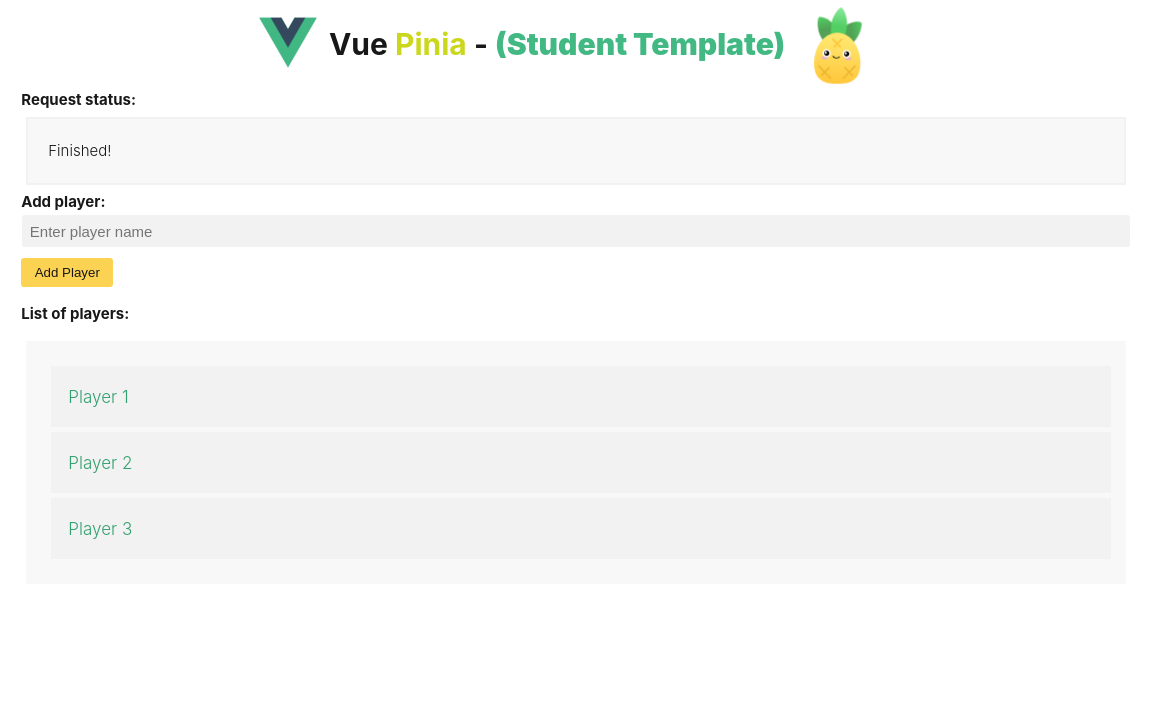
Scenario: Requests: PUT › Should not update the player if update fails.
What coordinates should you click on to do the following:
click the link "Player 2"
I would click on:
 (100, 462)
Its box is [51,432,1110,493].
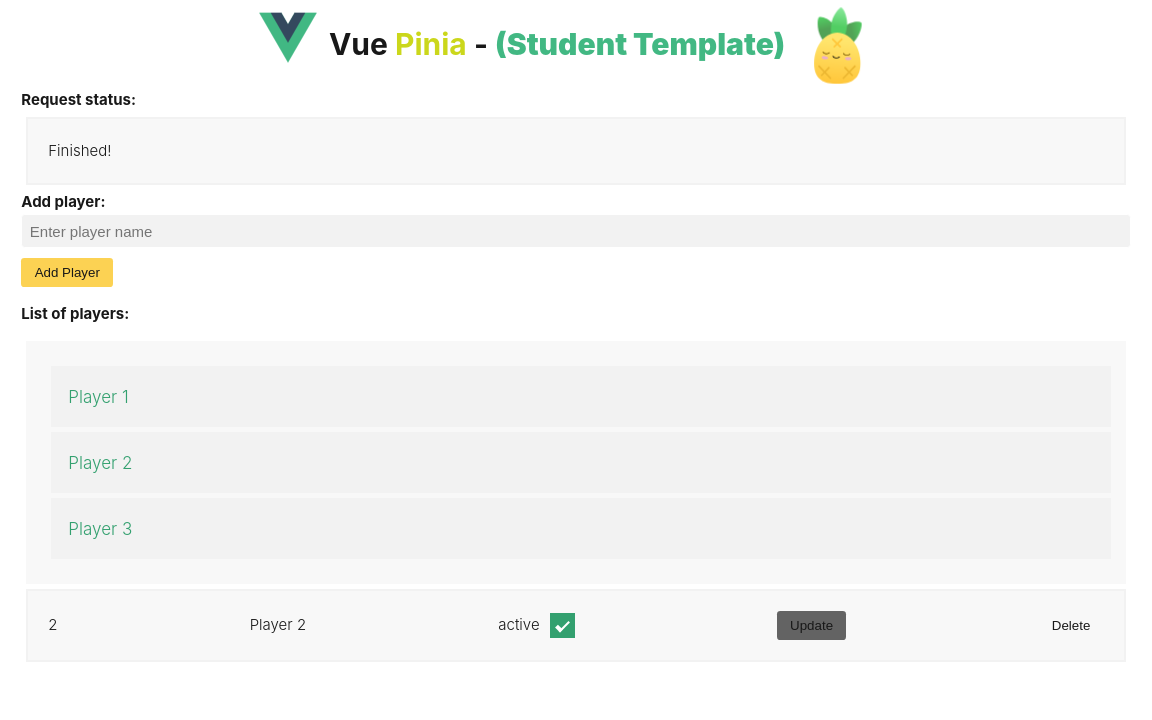
Check: the text "Finished!" is shown, box [26,117,1126,185]
Check: the element with id "selected-player" is shown, box [26,589,1125,661]
Check: the text "Player 2" is shown, box [250,614,306,638]
What coordinates should you click on to do the following:
click the checkbox with id "checkbox-label"
I would click on:
 (524, 626)
Its box is [498,614,549,638].
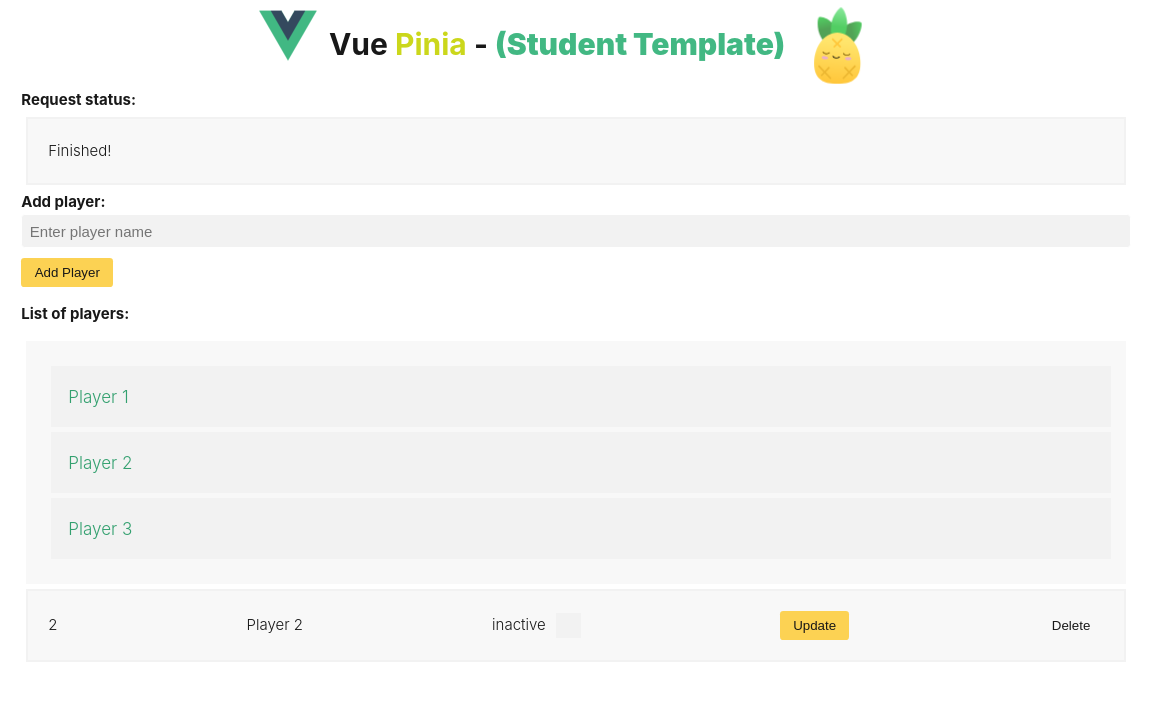
Check: the element with id "checkbox" is not checked
Check: the button with class "btn-update" is enabled
What coordinates should you click on to do the following:
click the button with class "btn-update"
I would click on:
 (815, 625)
Its box is [780,611,850,639].
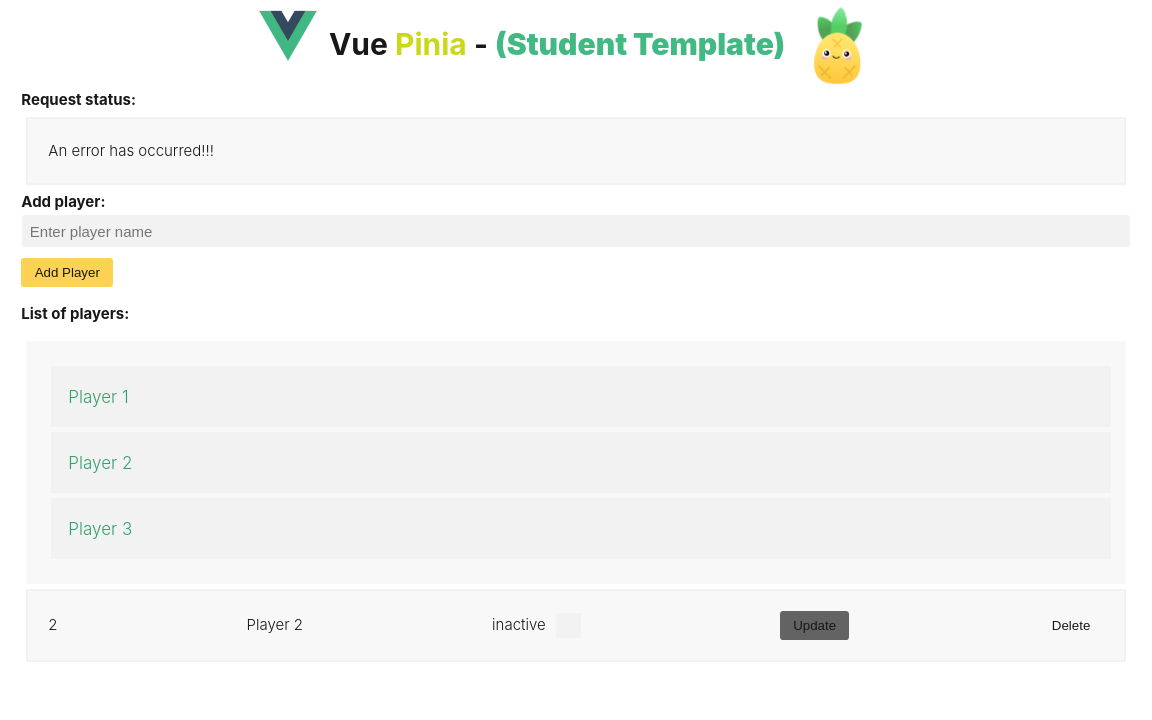
Check: the text "An error has occurred!!!" is shown, box [26,117,1126,185]
What coordinates should you click on to do the following:
click the link "Player 2"
I would click on:
 (100, 462)
Its box is [51,432,1110,493].
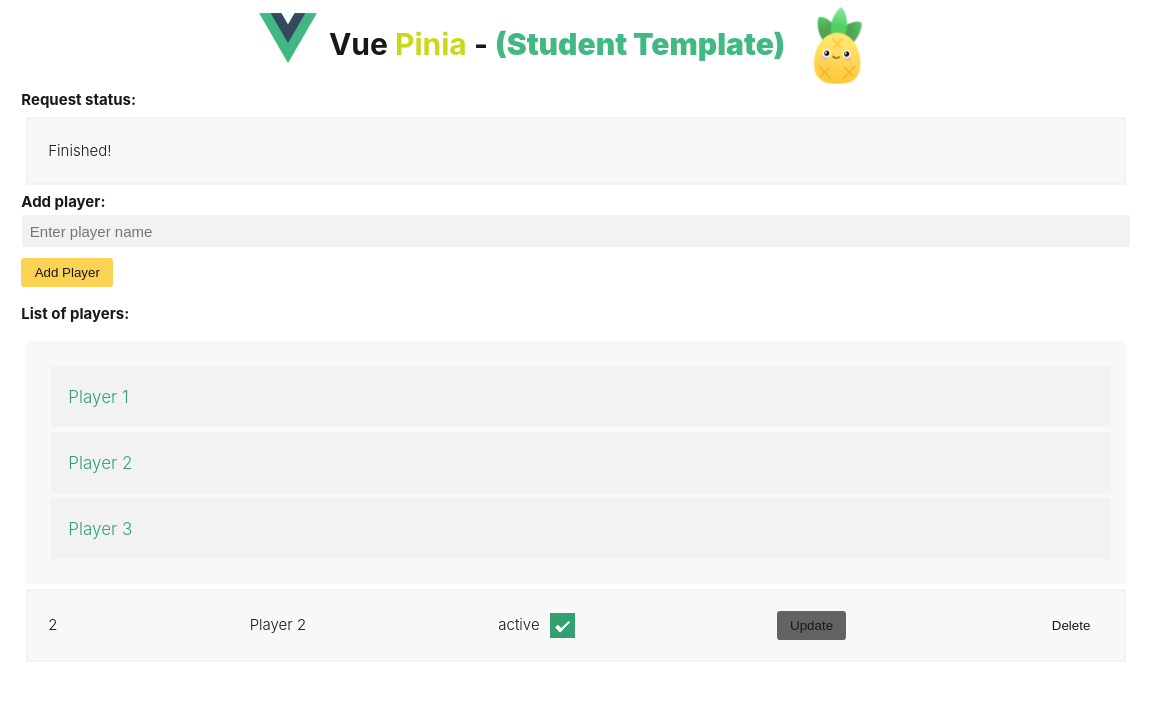
Check: the element with class "btn-update" is disabled
Check: the text "Player 2" is shown, box [250,614,306,638]
Check: the text "Finished!" is shown, box [26,117,1126,185]
